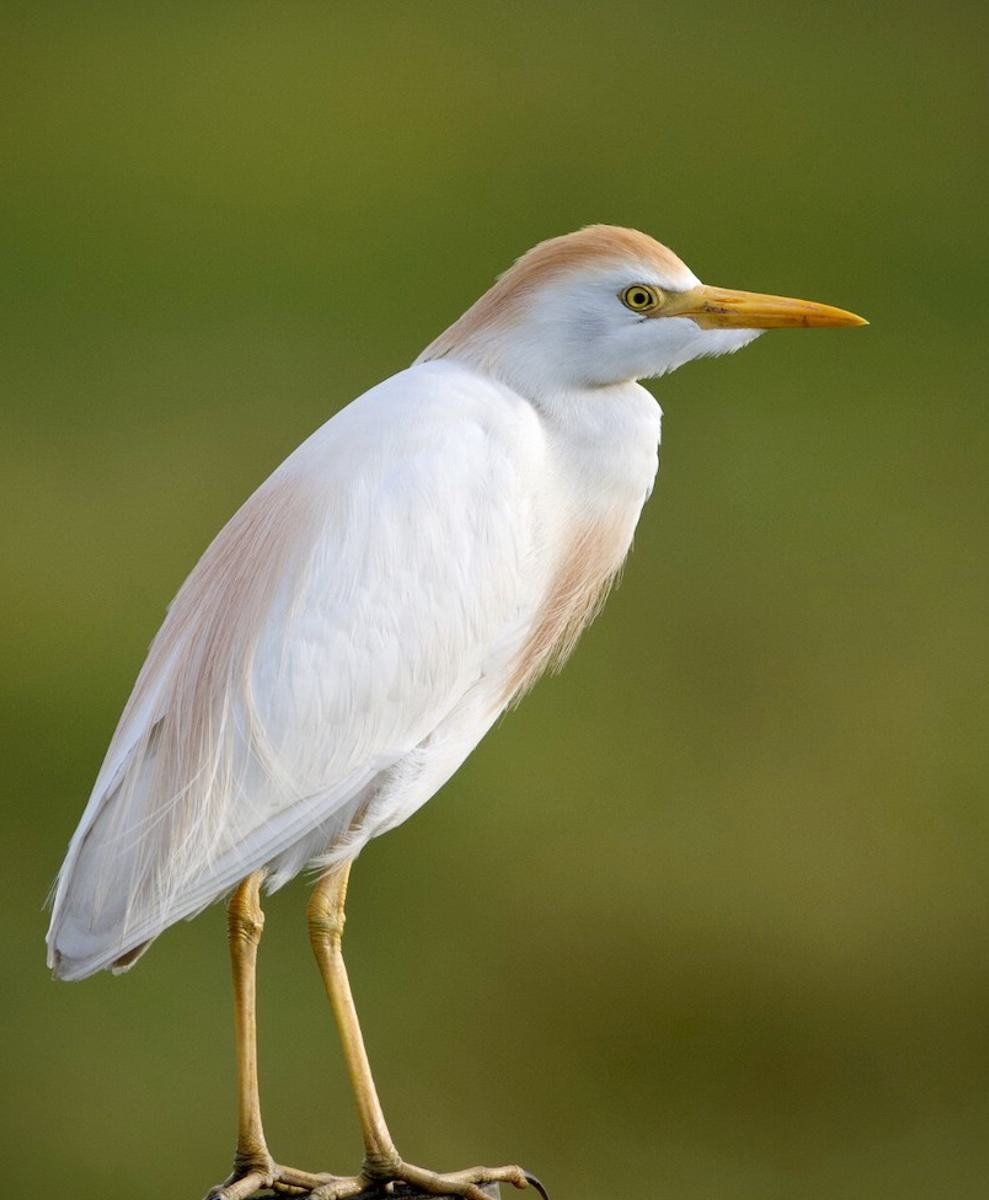egret: (43, 206, 876, 1200)
